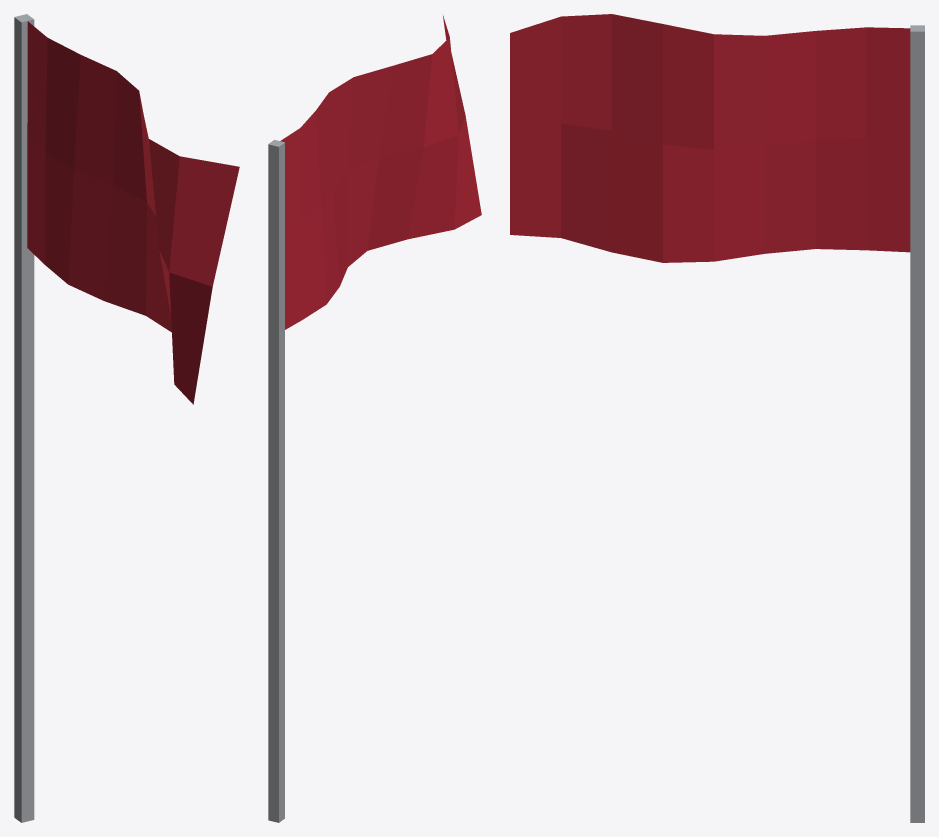
The model's file is mastro_5.glb.
3 views of the same model, side by side, from view 1: azimuth 30°, elevation 25°; view 2: azimuth 150°, elevation 25°; view 3: azimuth 270°, elevation 25° (orthographic). The views are drawn at different scales.
Parts seen in each view (by area): view 1: cor, aco; view 2: cor, aco; view 3: cor, aco.
Part boxes in pixels (<box>): cor: <box>27,21,239,404</box>; aco: <box>14,14,34,822</box>; cor: <box>280,15,481,329</box>; aco: <box>268,140,284,822</box>; cor: <box>510,14,910,262</box>; aco: <box>910,25,924,822</box>.
Size of the model in its own units: 0.4555 by 6 by 2.85.
